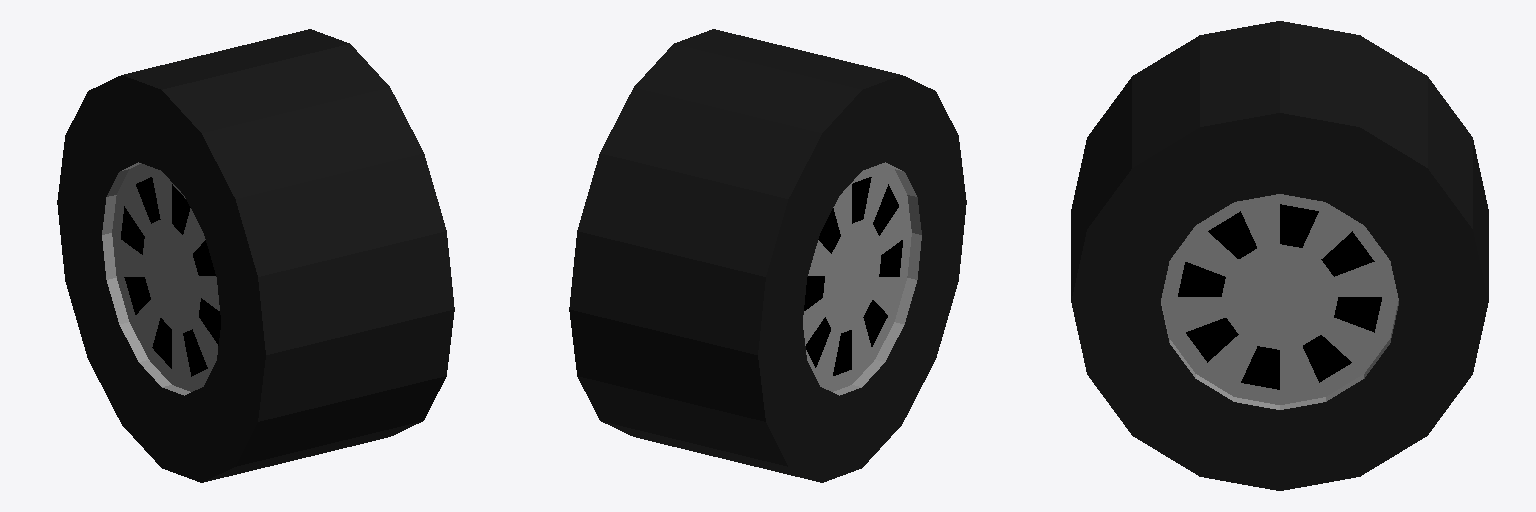
Rendered from tire.obj.
The picture shows the model from 3 angles: view 1: azimuth 30°, elevation 25°; view 2: azimuth 150°, elevation 25°; view 3: azimuth 270°, elevation 25°; orthographic projection.
Visible parts, largest first — view 1: cylinder2_copy3; view 2: cylinder2_copy3; view 3: cylinder2_copy3.
Boxes of the visible parts, x1,y1,x2,y2 form: cylinder2_copy3: [57, 29, 454, 482]; cylinder2_copy3: [569, 29, 966, 482]; cylinder2_copy3: [1071, 21, 1488, 490].
Bounding box in the file's own units: 0.3236 × 0.62 × 0.62.